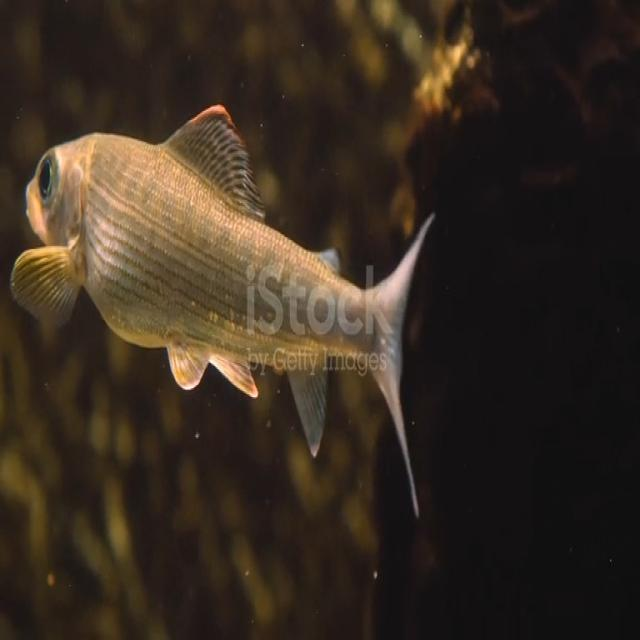fish: (4, 97, 438, 523)
